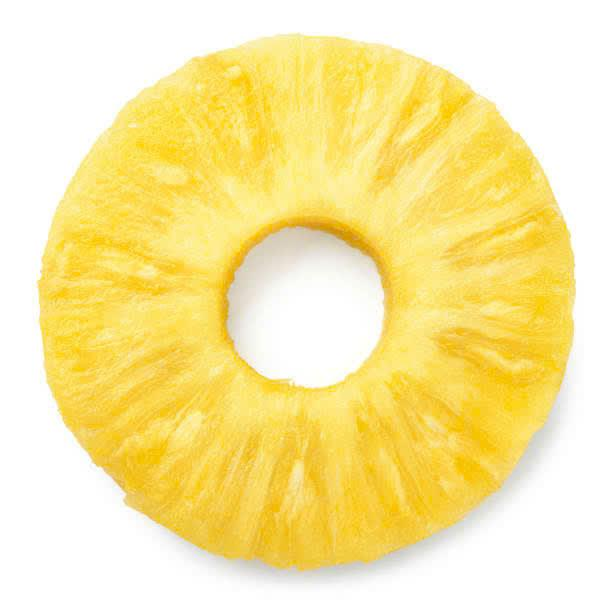pineapple: (30, 30, 585, 570)
